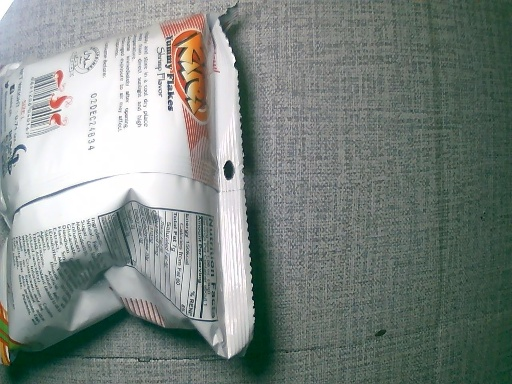plastic: (1, 5, 270, 372)
